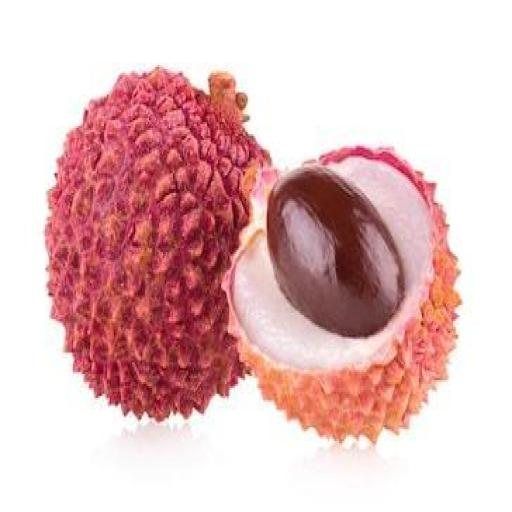lychee: (46, 69, 267, 419), (226, 148, 459, 441)
